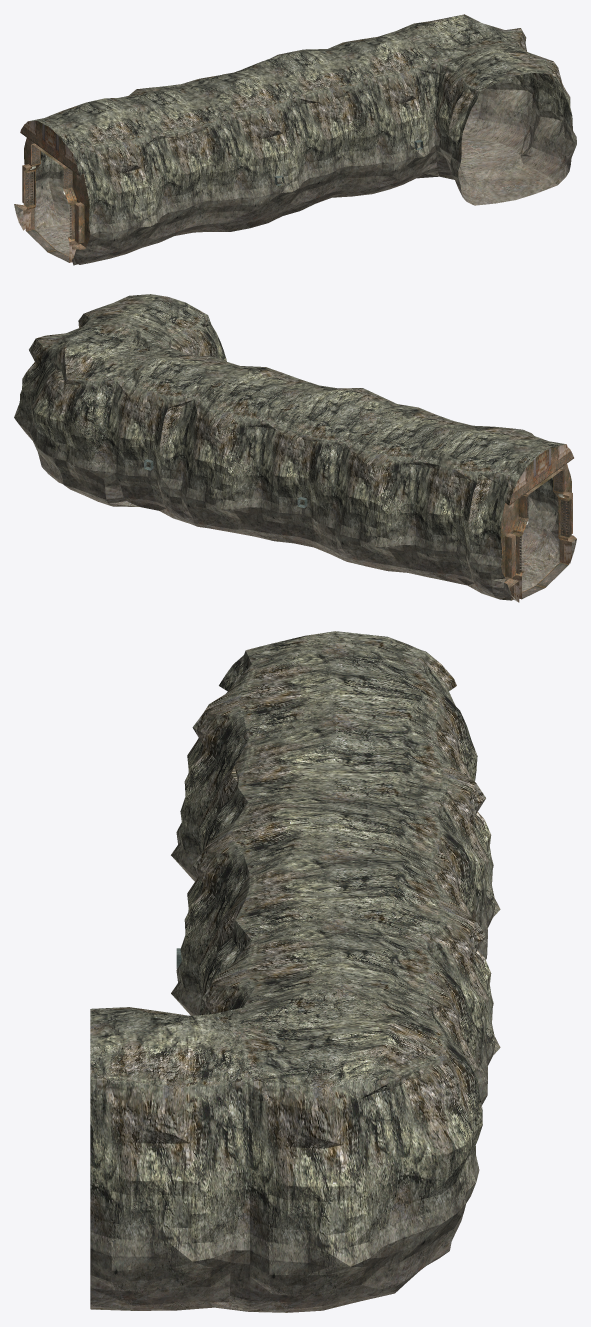
The model's file is poi_all_bunker_mad_bio_s01_r17_hall5_mesh_r17.fbx.
3 renders of one model, top to bottom at view 1: azimuth 30°, elevation 25°; view 2: azimuth 150°, elevation 25°; view 3: azimuth 270°, elevation 25°, orthographic. The views are drawn at different scales.
Parts seen in each view (by area): view 1: mesh_node; view 2: mesh_node; view 3: mesh_node.
Part boxes in pixels (bbox=[...]): mesh_node: bbox=[14, 14, 576, 265]; mesh_node: bbox=[14, 294, 576, 602]; mesh_node: bbox=[90, 631, 500, 1312].
Bounding box in the file's own units: 27.42 × 7.19 × 10.03.
